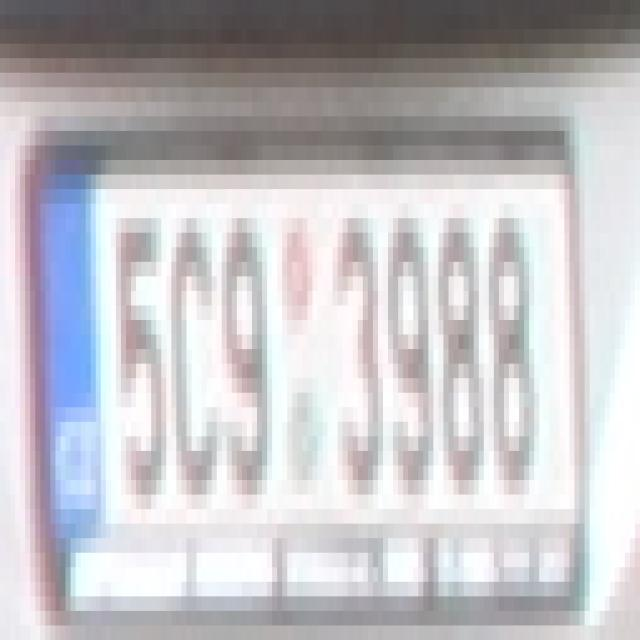3: (328, 189, 378, 495)
5: (106, 189, 161, 495)
8: (484, 189, 544, 495), (428, 189, 479, 495)
9: (378, 175, 428, 494), (222, 218, 272, 495)
C: (171, 218, 222, 495)
